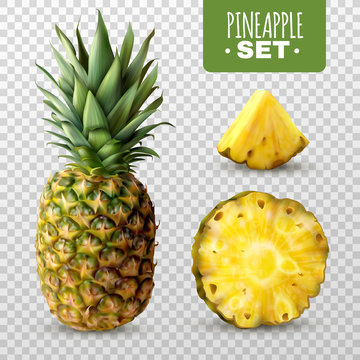Pineapple: (35, 8, 176, 334)
